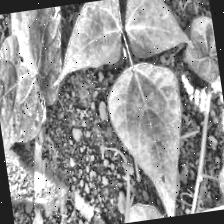ALS: (103, 52, 196, 223), (8, 5, 76, 106), (0, 33, 55, 151)
